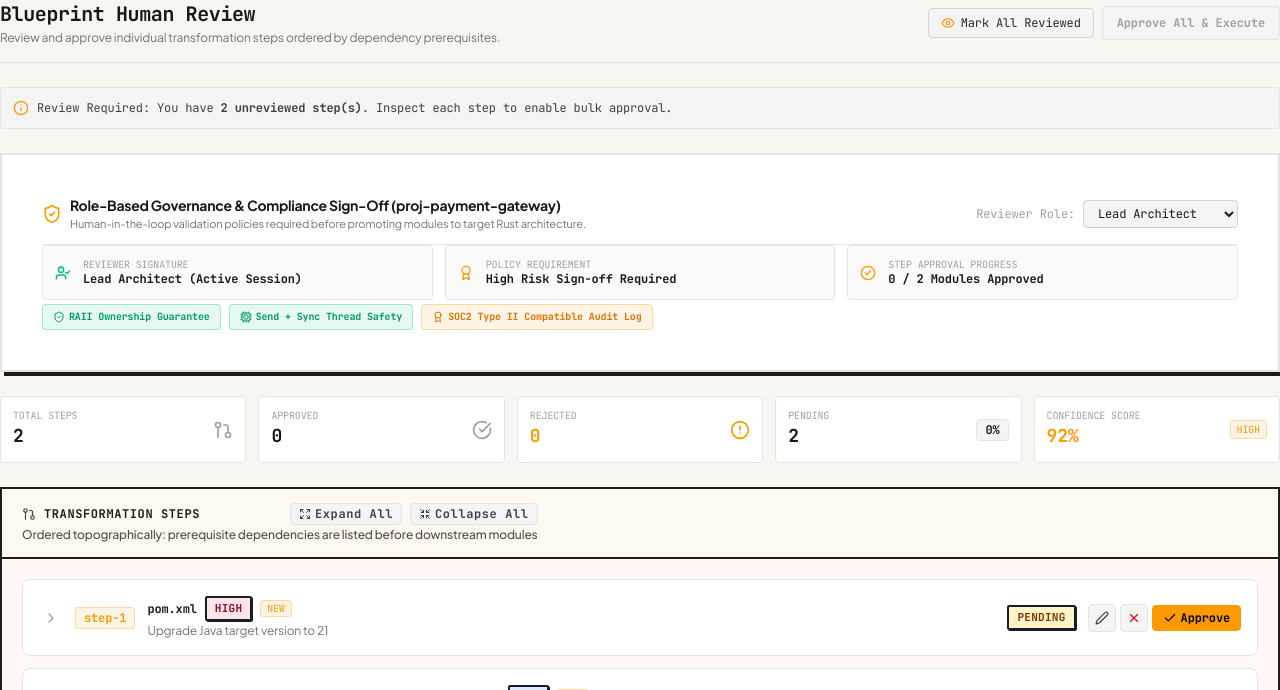
Test: BlueprintPage Component Tests › 3. Rejecting a step without a reason is blocked
This screenshot has width=1280, height=690.
Click the button with test id "reject-btn-step-1".
click(1134, 618)  # box [1120,604,1148,632]
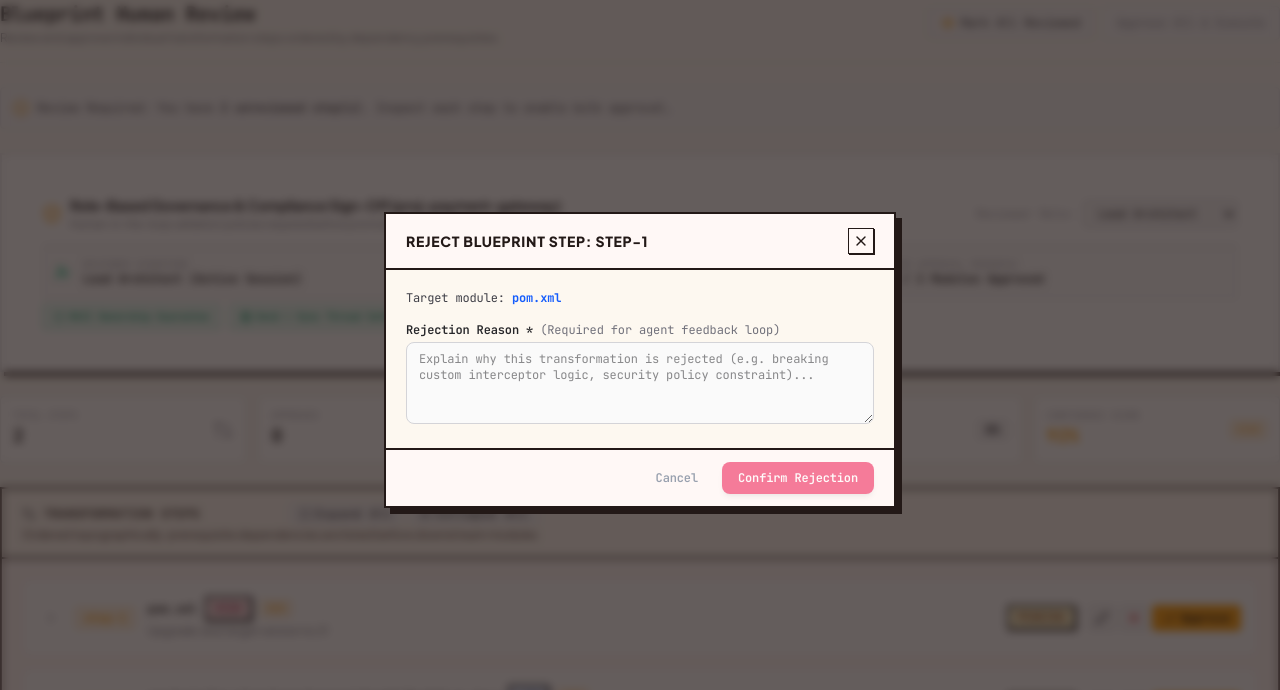
Check: the heading "Reject Blueprint Step: step-1" is shown, box [406,231,648,251]
Check: the button "Confirm Rejection" is disabled, box [722,462,874,494]
